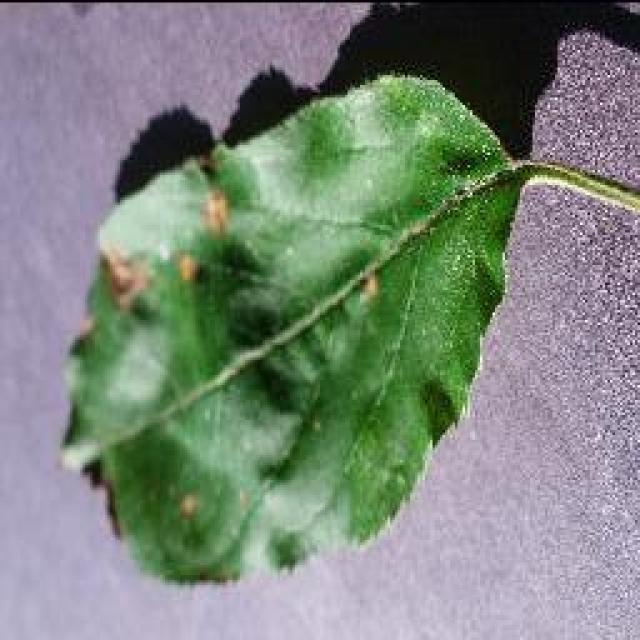Black_rot: (58, 67, 638, 585)
